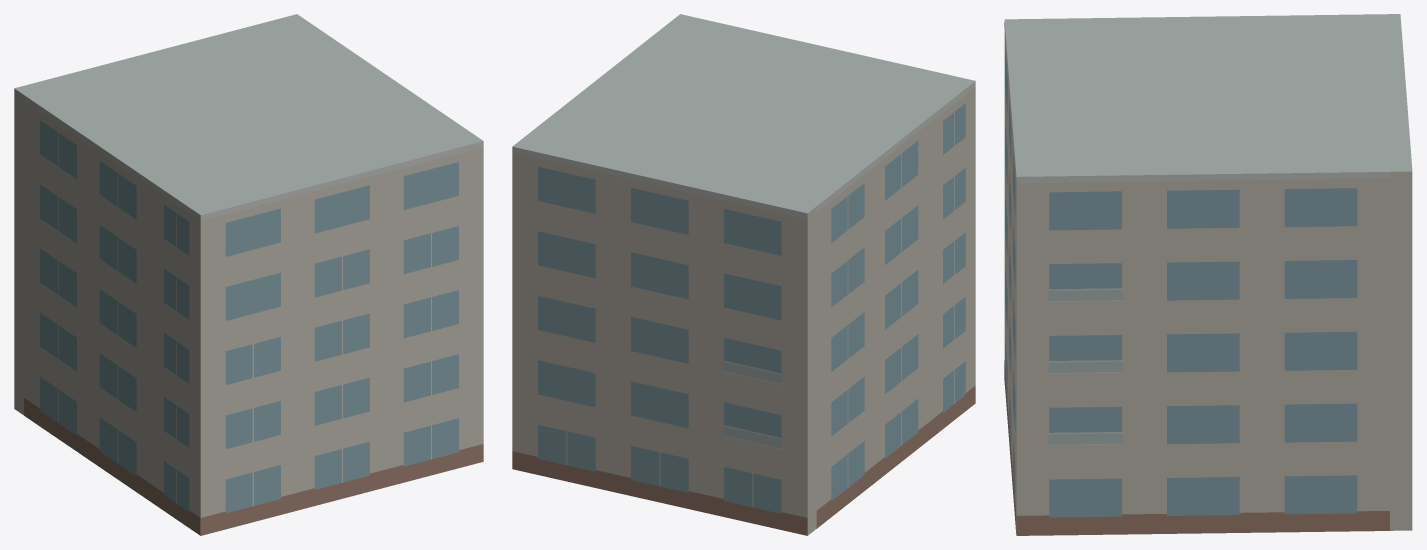
The model's file is survey-upis-32755465.glb.
The picture shows the model from 3 angles, left to right: view 1: azimuth 30°, elevation 25°; view 2: azimuth 150°, elevation 25°; view 3: azimuth 270°, elevation 25°; orthographic projection. The views are drawn at different scales.
Parts seen in each view (by area): view 1: survey-upis-32755465.tmp; view 2: survey-upis-32755465.tmp; view 3: survey-upis-32755465.tmp.
Part boxes in pixels (x1=…): survey-upis-32755465.tmp: x1=14, y1=14, x2=483, y2=535; survey-upis-32755465.tmp: x1=512, y1=14, x2=975, y2=535; survey-upis-32755465.tmp: x1=1004, y1=14, x2=1412, y2=535.
Bounding box in the file's own units: 13.04 × 13.4 × 13.81.
